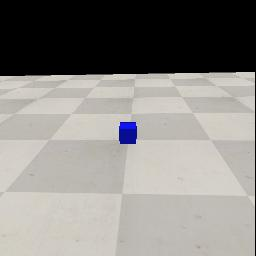box: (119, 122, 137, 144)
